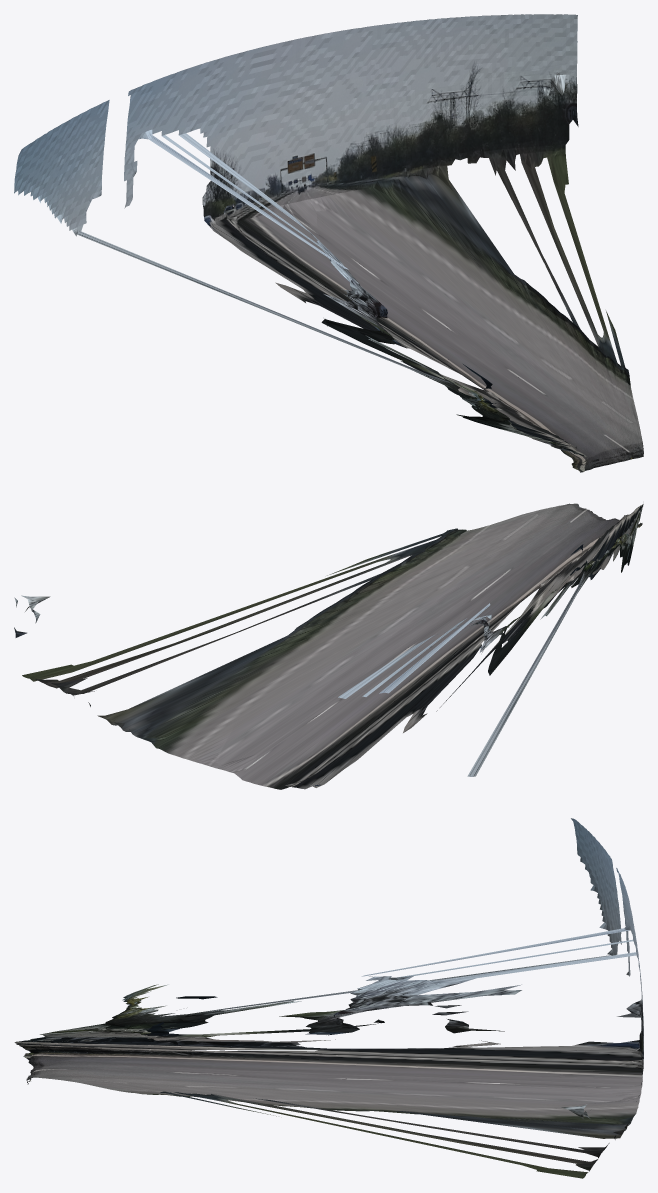
3 renders of one model, top to bottom at view 1: azimuth 30°, elevation 25°; view 2: azimuth 150°, elevation 25°; view 3: azimuth 270°, elevation 25°, orthographic. The views are drawn at different scales.
Parts seen in each view (by area): view 1: defaultobject; view 2: defaultobject; view 3: defaultobject.
Boxes of the visible parts, x1,y1,x2,y2 form: defaultobject: [14, 14, 643, 472]; defaultobject: [14, 503, 643, 789]; defaultobject: [14, 818, 643, 1178].
Bounding box in the file's own units: 40.95 × 12.1 × 45.36.
Materials: 1 (1 with a texture image).
